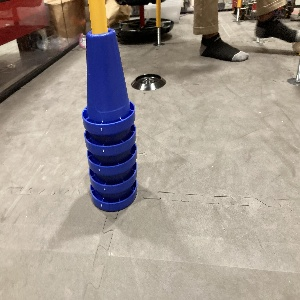Blue_5: (78, 26, 141, 213)
